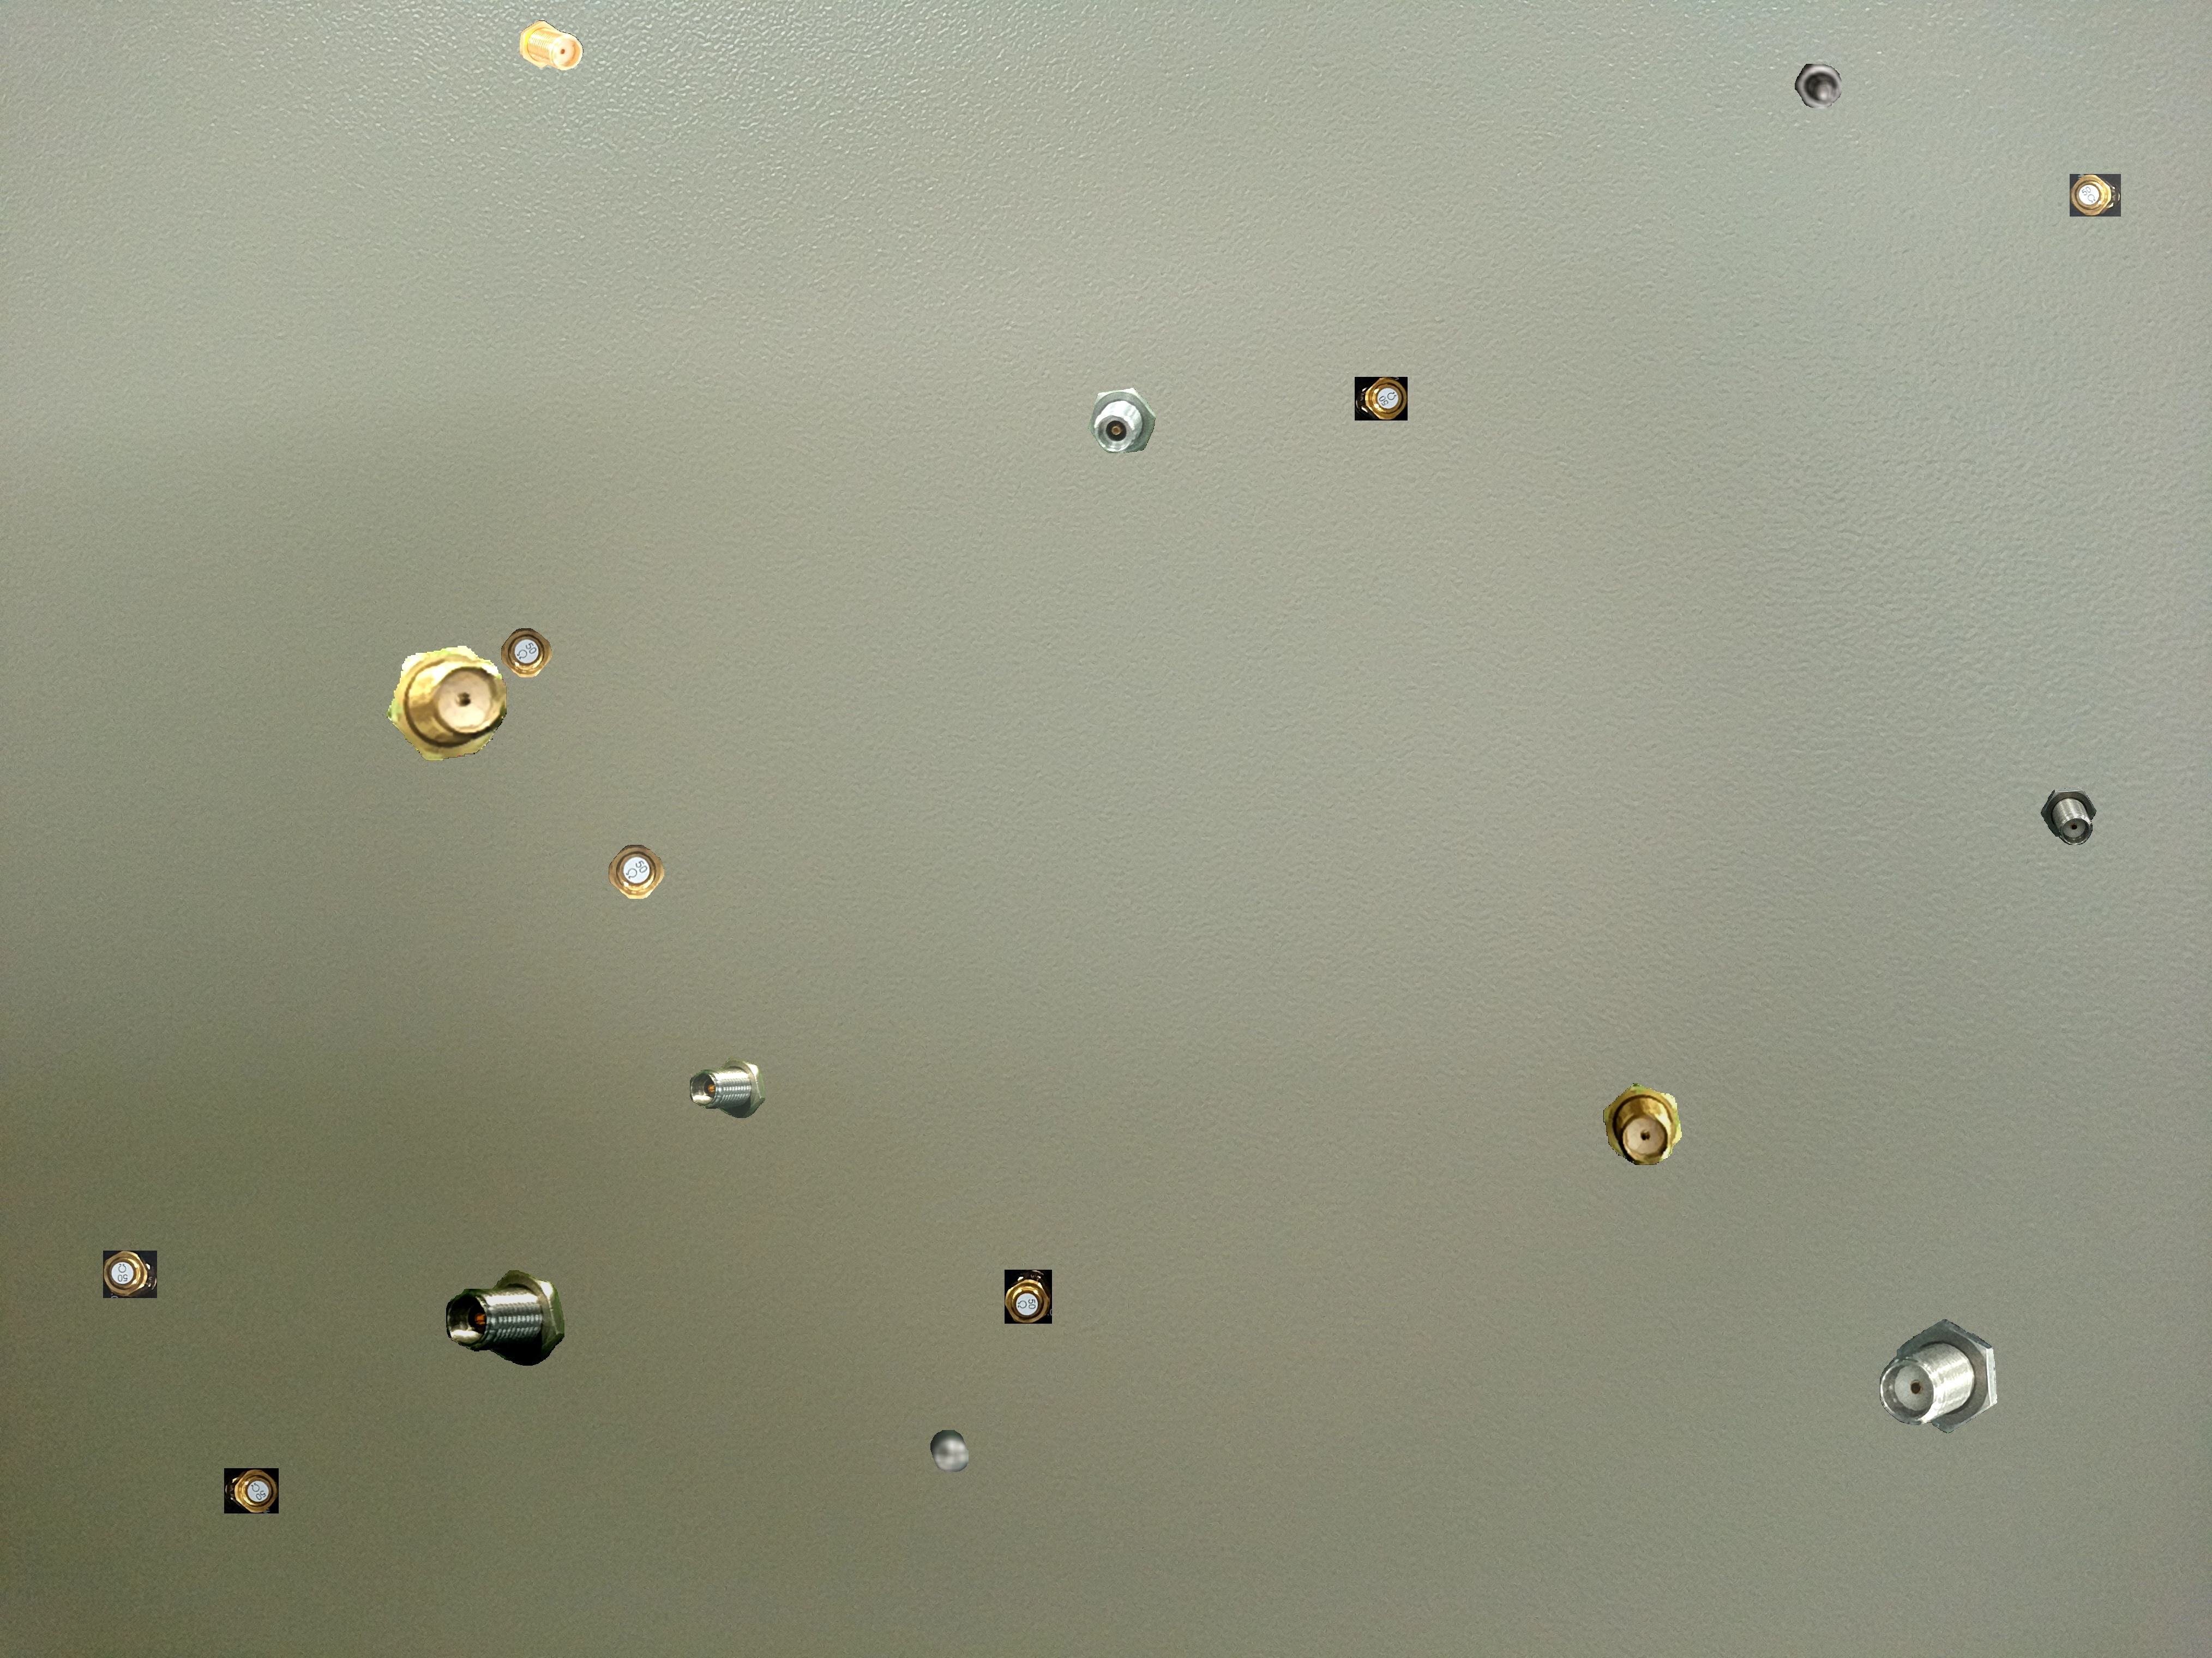Cgoldcap: (608, 845, 664, 899), (1005, 1270, 1052, 1324), (103, 1250, 157, 1297), (502, 629, 552, 677), (225, 1468, 279, 1513), (1355, 376, 1407, 420), (2069, 174, 2120, 216)
Cpin_wNut: (387, 646, 507, 761), (1879, 1320, 1996, 1433), (446, 1270, 564, 1365), (1604, 1083, 1681, 1165), (690, 1057, 765, 1118), (1089, 388, 1155, 453), (519, 21, 583, 70), (2041, 787, 2095, 845)
